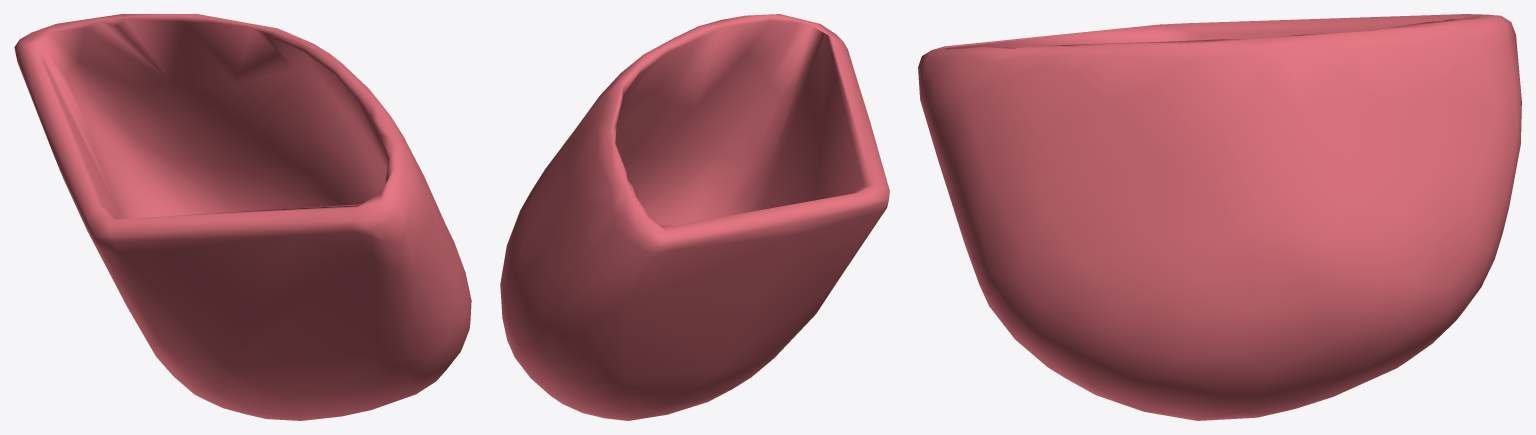
3 renders of one model, left to right at view 1: azimuth 30°, elevation 25°; view 2: azimuth 150°, elevation 25°; view 3: azimuth 270°, elevation 25°, orthographic. The views are drawn at different scales.
Visible parts, largest first — view 1: ZA_ffdf80a951e639d9; view 2: ZA_ffdf80a951e639d9; view 3: ZA_ffdf80a951e639d9.
Boxes of the visible parts, box(x1,y1,x2,y2) form: ZA_ffdf80a951e639d9: box(14, 14, 471, 420); ZA_ffdf80a951e639d9: box(500, 14, 889, 420); ZA_ffdf80a951e639d9: box(918, 14, 1521, 420).
Size of the model in its own units: 0.0148 by 0.014 by 0.0204.
